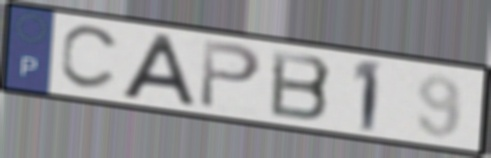1: (351, 59, 385, 135)
9: (414, 71, 467, 141)
A: (117, 31, 200, 110)
B: (267, 47, 335, 124)
C: (57, 24, 124, 93)
P: (196, 37, 265, 112)
